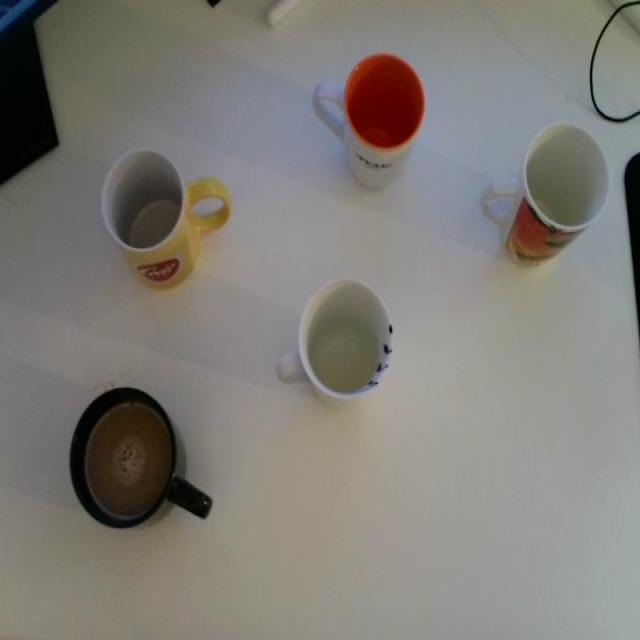cup: (46, 378, 220, 555), (72, 147, 240, 295), (469, 126, 617, 281), (274, 270, 406, 424), (302, 49, 429, 198)
